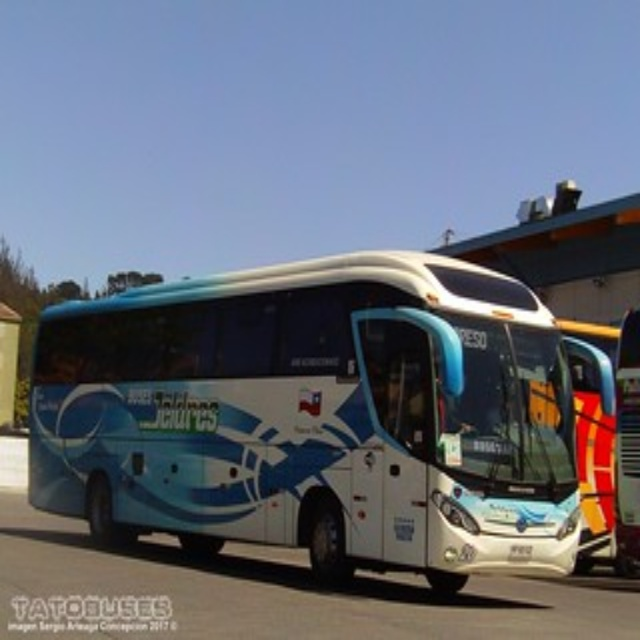Bus: (26, 248, 582, 593)
